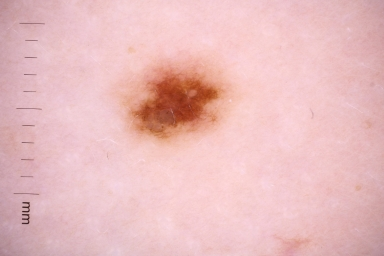melanoma: (130, 68, 218, 138)
